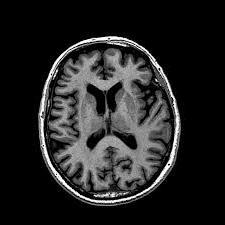Normal_Brain: (23, 6, 195, 225)
